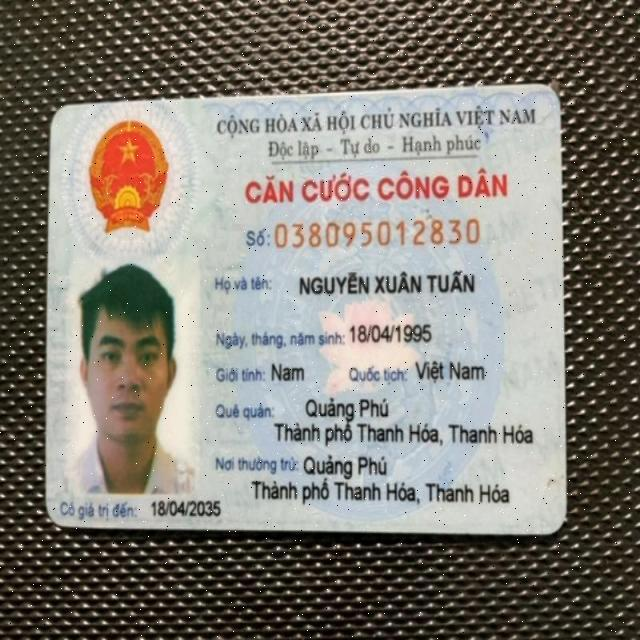current_place: (250, 476, 513, 512), (303, 451, 392, 481)
dob: (347, 318, 434, 345)
expire_date: (149, 499, 222, 520)
gender: (270, 361, 308, 383)
id: (273, 220, 481, 251)
name: (298, 269, 479, 301)
nationality: (414, 357, 488, 386)
origin_place: (275, 418, 532, 446), (300, 394, 394, 421)
